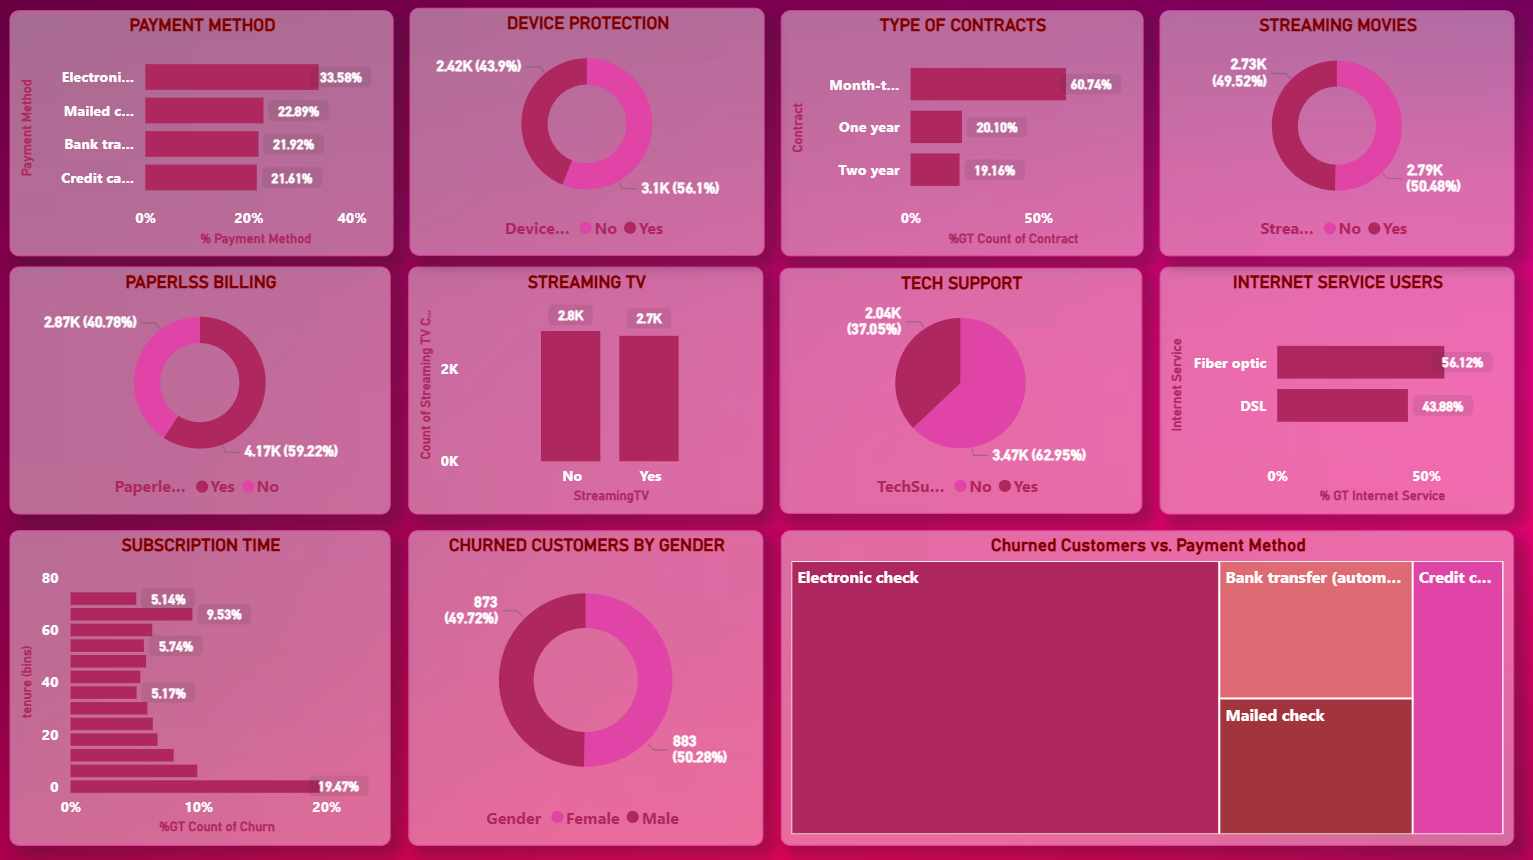

This screenshot's page, from the dashboard's own definition file:
{"tool":"powerbi","page":{"name":"Dashboard 2","canvas":[1280,720],"ordinal":1},"visuals":[{"type":"clusteredBarChart","title":"PAYMENT METHOD","fields":{"Category":["CHURN_DATA.PaymentMethod"],"Y":["CountNonNull(CHURN_DATA.PaymentMethod)"]},"box":[14.3,13.1,318.3,204.3],"z":0},{"type":"donutChart","title":"PAPERLSS BILLING","fields":{"Y":["CountNonNull(CHURN_DATA.PaperlessBilling)"],"Category":["CHURN_DATA.PaperlessBilling"]},"box":[14.3,225.6,315.9,205.5],"z":1000},{"type":"clusteredBarChart","title":"TYPE OF CONTRACTS","fields":{"Category":["CHURN_DATA.Contract"],"Y":["CountNonNull(CustomerFull.Contract)"]},"box":[654,13.1,300.5,204.3],"z":2000},{"type":"barChart","title":"INTERNET SERVICE USERS","fields":{"Category":["CustomerFull.InternetService"],"Y":["CountNonNull(CustomerFull.InternetService)"]},"box":[967.9,225.6,294.5,205.5],"z":3000},{"type":"pieChart","title":"TECH SUPPORT","fields":{"Category":["CustomerFull.TechSupport"],"Y":["CountNonNull(CustomerFull.TechSupport)"]},"box":[653.2,226.8,300.5,204.3],"z":4000},{"type":"columnChart","title":"STREAMING  TV","fields":{"Category":["CustomerFull.StreamingTV"],"Y":["CountNonNull(CustomerFull.StreamingTV)"]},"box":[345.6,225.6,294.5,205.5],"z":5000},{"type":"donutChart","title":"STREAMING  MOVIES","fields":{"Category":["CustomerFull.StreamingMovies"],"Y":["CountNonNull(CustomerFull.StreamingMovies)"]},"box":[967.9,13.1,294.5,204.3],"z":6000},{"type":"donutChart","title":"DEVICE PROTECTION","fields":{"Category":["CustomerFull.DeviceProtection"],"Y":["CountNonNull(CustomerFull.DeviceProtection)"]},"box":[346,11.9,294.5,205.5],"z":7000},{"type":"donutChart","title":"CHURNED CUSTOMERS BY GENDER","fields":{"Category":["CUSTOMER_DATA.gender"],"Y":["CustomerFull.Churned Customers"]},"box":[345.6,444.2,294.5,261.3],"z":8000},{"type":"clusteredBarChart","title":"SUBSCRIPTION TIME","fields":{"Category":["CHURN_DATA.tenure (bins)"],"Y":["CountNonNull(CHURN_DATA.Churn)"]},"box":[14.3,444.2,315.9,261.3],"z":9000},{"type":"treemap","title":"Churned Customers vs. Payment Method","fields":{"Values":["CustomerFull.Churned Customers"],"Group":["CHURN_DATA.PaymentMethod"]},"box":[654.4,444.2,608.1,261.3],"z":10000}]}

Visuals, with their boxes in screenshot pixels (x1, y1, x2, y2), scaled from the page's 1280x720 canvas onto the 1533x860 screenshot:
"PAYMENT METHOD" clusteredBarChart: {"x1": 17, "y1": 16, "x2": 398, "y2": 260}
"PAPERLSS BILLING" donutChart: {"x1": 17, "y1": 269, "x2": 395, "y2": 515}
"TYPE OF CONTRACTS" clusteredBarChart: {"x1": 783, "y1": 16, "x2": 1143, "y2": 260}
"INTERNET SERVICE USERS" barChart: {"x1": 1159, "y1": 269, "x2": 1512, "y2": 515}
"TECH SUPPORT" pieChart: {"x1": 782, "y1": 271, "x2": 1142, "y2": 515}
"STREAMING  TV" columnChart: {"x1": 414, "y1": 269, "x2": 767, "y2": 515}
"STREAMING  MOVIES" donutChart: {"x1": 1159, "y1": 16, "x2": 1512, "y2": 260}
"DEVICE PROTECTION" donutChart: {"x1": 414, "y1": 14, "x2": 767, "y2": 260}
"CHURNED CUSTOMERS BY GENDER" donutChart: {"x1": 414, "y1": 531, "x2": 767, "y2": 843}
"SUBSCRIPTION TIME" clusteredBarChart: {"x1": 17, "y1": 531, "x2": 395, "y2": 843}
"Churned Customers vs. Payment Method" treemap: {"x1": 784, "y1": 531, "x2": 1512, "y2": 843}
